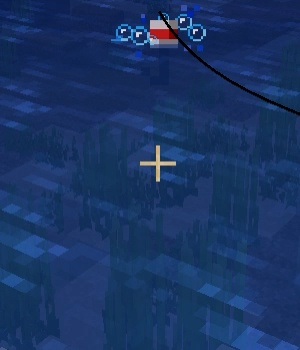up: (143, 8, 182, 85)
